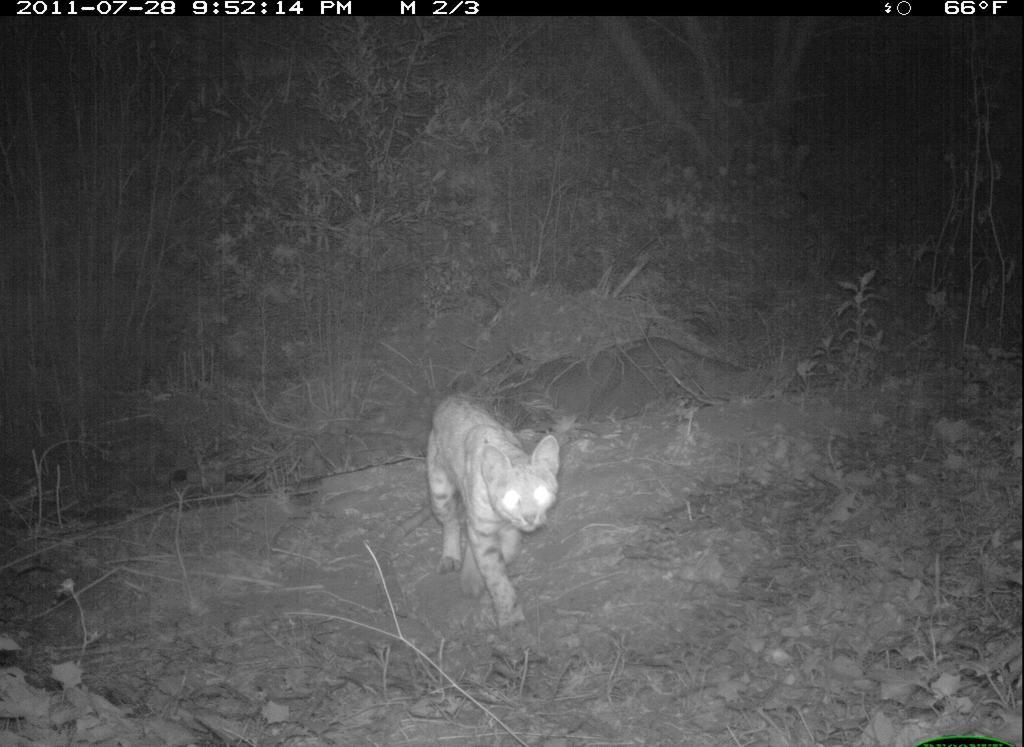bobcat: (414, 383, 578, 649)
